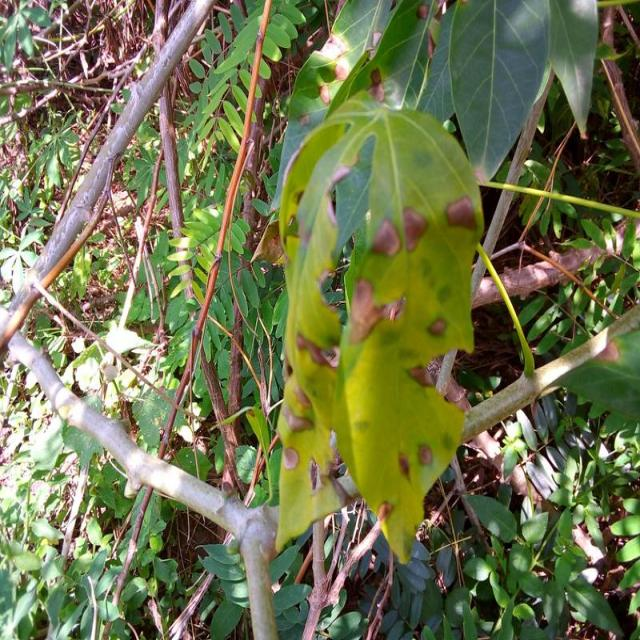cassava leaf: (276, 92, 487, 564)
